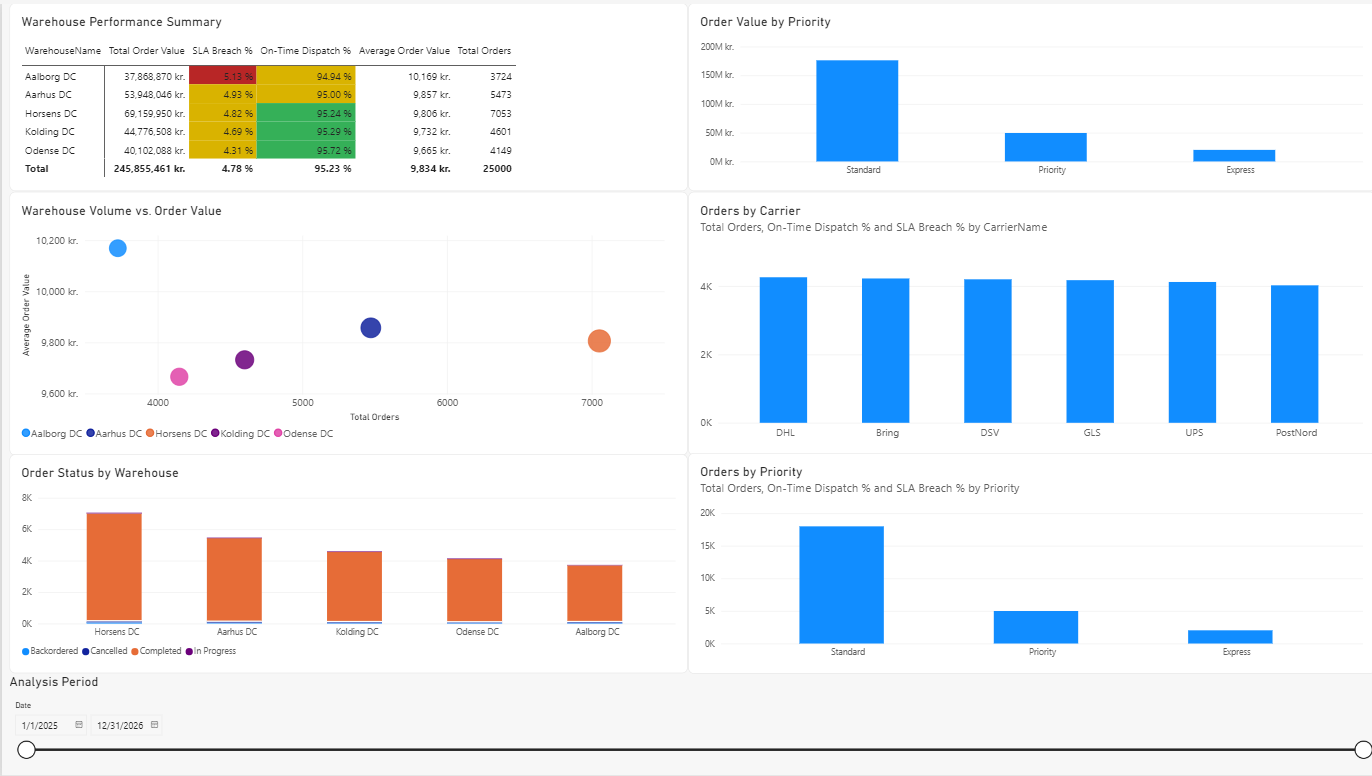

The page's visual inventory and layout, read from the dashboard file:
{"tool":"powerbi","page":{"name":"Logistics Analysis","canvas":[1920,1080],"ordinal":1},"visuals":[{"type":"pivotTable","title":"Warehouse Performance Summary","fields":{"Rows":["DimWarehouse.WarehouseName"],"Values":["All Measures.Total Order Value","All Measures.SLA Breach %","All Measures.On-Time Dispatch %","All Measures.Average Order Value","All Measures.Total Orders"]},"box":[10.3,0,948.9,263.5],"z":0},{"type":"scatterChart","title":"Warehouse Volume vs. Order Value","fields":{"Series":["DimWarehouse.WarehouseName"],"Size":["All Measures.Total Order Value"],"X":["All Measures.Total Orders"],"Y":["All Measures.Average Order Value"]},"box":[10.3,263.5,948.9,368.4],"z":1},{"type":"clusteredColumnChart","title":"Orders by Carrier","fields":{"Category":["DimCarrier.CarrierName"],"Y":["All Measures.Total Orders"]},"box":[959.2,263.5,961.2,368.4],"z":2},{"type":"columnChart","title":"Order Status by Warehouse","fields":{"Category":["DimWarehouse.WarehouseName"],"Series":["FactOrders.OrderStatus"],"Y":["All Measures.Total Orders"]},"box":[10.3,631.9,948.9,306.7],"z":3},{"type":"clusteredColumnChart","title":"Orders by Priority","fields":{"Category":["FactOrders.Priority"],"Y":["All Measures.Total Orders"]},"box":[959.2,629.8,961.2,308.7],"z":4},{"type":"clusteredColumnChart","title":"Order Value by Priority","fields":{"Category":["FactOrders.Priority"],"Y":["All Measures.Total Order Value"]},"box":[959.2,0,961.2,263.5],"z":5},{"type":"slicer","title":"Analysis Period","fields":{"Values":["DimDate_New.Date"]},"box":[10.3,938.6,1910.1,142],"z":6}]}

Visuals, with their boxes in screenshot pixels (x1, y1, x2, y2), scaled from the page's 1920x1080 canvas onto the 1372x776 screenshot:
"Warehouse Performance Summary" pivotTable: 7, 0, 685, 189
"Warehouse Volume vs. Order Value" scatterChart: 7, 189, 685, 454
"Orders by Carrier" clusteredColumnChart: 685, 189, 1371, 454
"Order Status by Warehouse" columnChart: 7, 454, 685, 674
"Orders by Priority" clusteredColumnChart: 685, 453, 1371, 674
"Order Value by Priority" clusteredColumnChart: 685, 0, 1371, 189
"Analysis Period" slicer: 7, 674, 1371, 775
